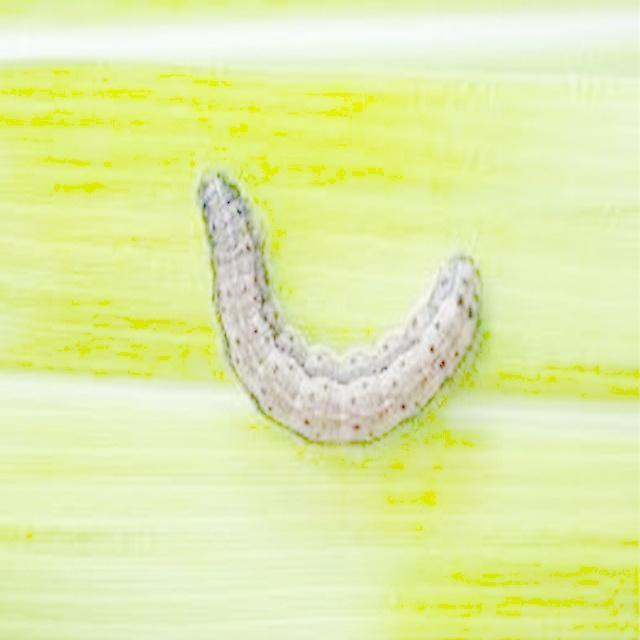gusano_cogollero: (189, 159, 485, 454)
